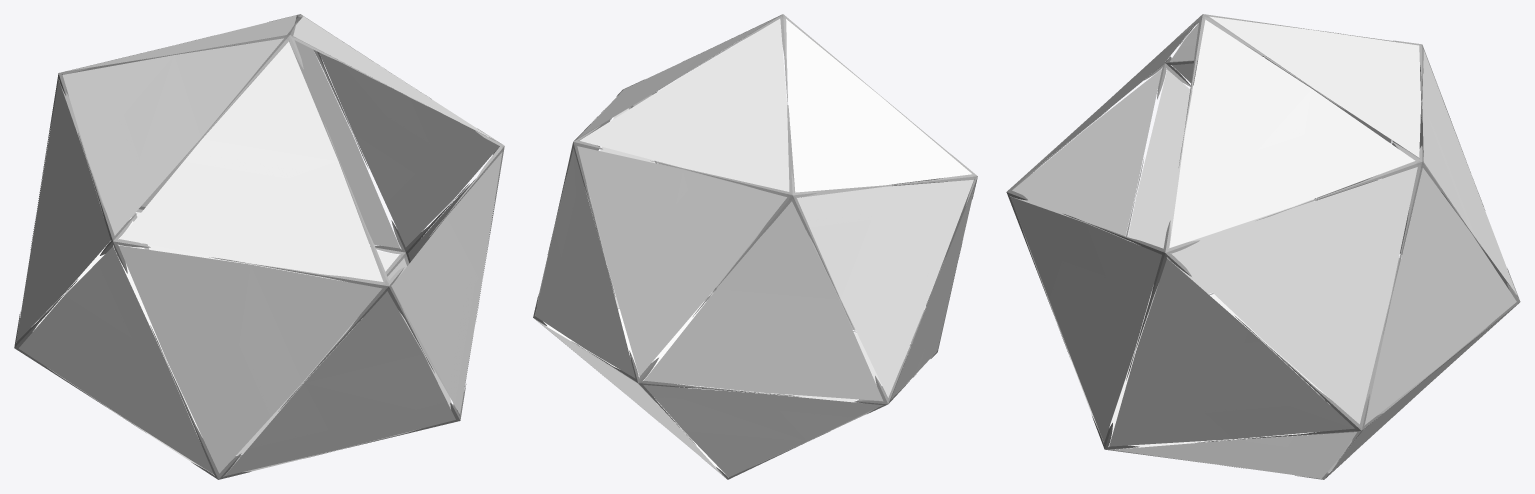
3 views of the same model, side by side, from view 1: azimuth 30°, elevation 25°; view 2: azimuth 150°, elevation 25°; view 3: azimuth 270°, elevation 25° (orthographic). The views are drawn at different scales.
Parts seen in each view (by area): view 1: Hedra001; view 2: Hedra001; view 3: Hedra001.
Boxes of the visible parts, x1=… form: Hedra001: x1=14, y1=14, x2=504, y2=479; Hedra001: x1=533, y1=14, x2=977, y2=479; Hedra001: x1=1006, y1=14, x2=1520, y2=479.
Size of the model in its own units: 2.04 by 2.34 by 2.34.
Materials: 2 (2 with a texture image).
